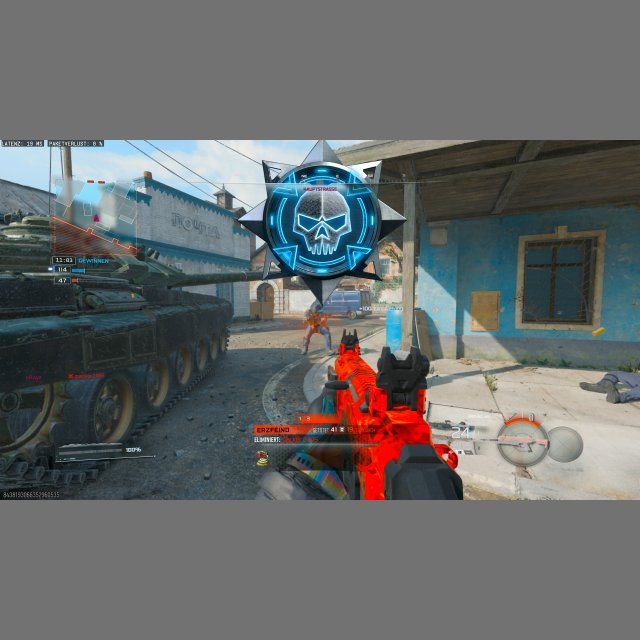head: (338, 330, 361, 357), (312, 300, 323, 311)
player: (286, 329, 376, 454), (300, 299, 333, 354)
